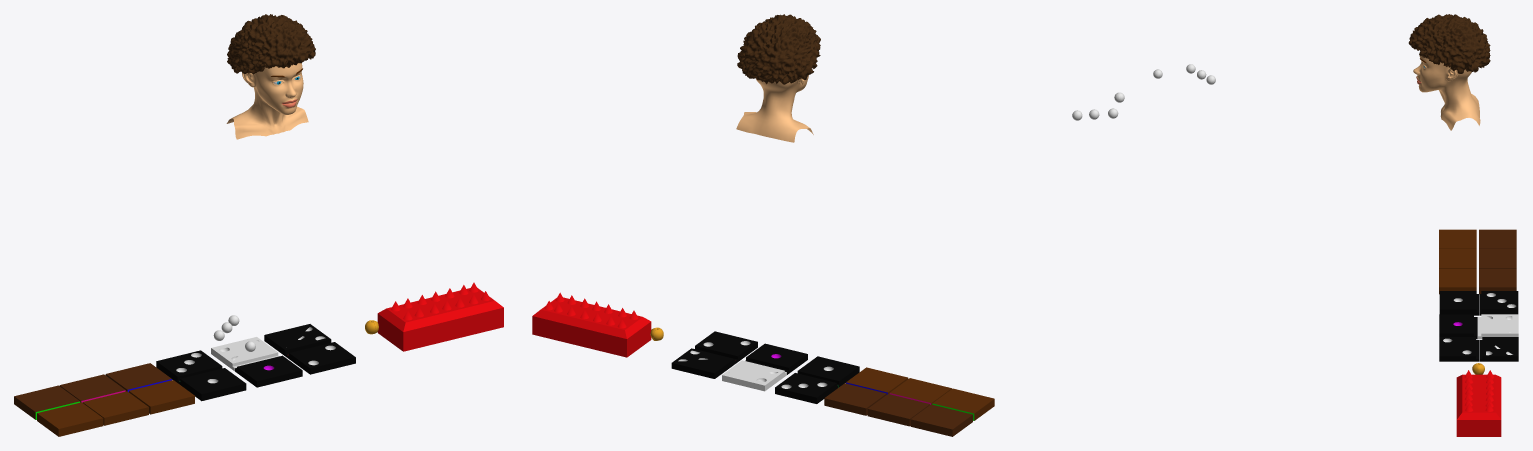
File: domino1.fbx
The picture shows the model from 3 angles, left to right: view 1: azimuth 30°, elevation 25°; view 2: azimuth 150°, elevation 25°; view 3: azimuth 270°, elevation 25°; orthographic projection. The views are drawn at different scales.
Parts seen in each view (by area): view 1: Iris_Geo_Iris_MAT_0.003, Cone.013, Cube.009, Cube.001, Cube, Cube.005, Cube.007, Cube.002, Cube.004, Cube.003, Cube.011, Cube.010 (+2 smaller); view 2: Iris_Geo_Iris_MAT_0.003, Cone.013, Cube.010, Cube.003, Cube.011, Cube.004, Cube.006, Cube.008, Cube, Cube.002, Cube.001, Cube.009 (+2 smaller); view 3: Iris_Geo_Iris_MAT_0.003, Cone.013, Cube, Cube.004, Cube.001, Cube.011, Cube.003, Cube.002, Cube.006, Cube.005, Cube.007, Cube.008 (+2 smaller).
Part boxes in pixels (left/top/right/bottom): Iris_Geo_Iris_MAT_0.003: left=226, top=14, right=315, bottom=139; Cone.013: left=377, top=282, right=503, bottom=351; Cube.009: left=37, top=402, right=103, bottom=436; Cube.001: left=179, top=368, right=246, bottom=401; Cube: left=287, top=342, right=355, bottom=374; Cube.005: left=129, top=380, right=194, bottom=414; Cube.007: left=82, top=391, right=148, bottom=425; Cube.002: left=235, top=355, right=302, bottom=387; Cube.004: left=264, top=324, right=331, bottom=357; Cube.003: left=211, top=337, right=278, bottom=371; Cube.011: left=156, top=350, right=222, bottom=383; Cube.010: left=14, top=385, right=80, bottom=419; Iris_Geo_Iris_MAT_0.003: left=736, top=14, right=820, bottom=142; Cone.013: left=532, top=292, right=651, bottom=357; Cube.010: left=910, top=404, right=972, bottom=436; Cube.003: left=722, top=360, right=786, bottom=391; Cube.011: left=775, top=373, right=838, bottom=403; Cube.004: left=671, top=348, right=736, bottom=378; Cube.006: left=824, top=383, right=886, bottom=415; Cube.008: left=867, top=394, right=929, bottom=426; Cube: left=695, top=331, right=757, bottom=362; Cube.002: left=745, top=343, right=807, bottom=374; Cube.001: left=797, top=356, right=859, bottom=387; Cube.009: left=932, top=388, right=994, bottom=420; Iris_Geo_Iris_MAT_0.003: left=1408, top=14, right=1490, bottom=130; Cone.013: left=1456, top=370, right=1501, bottom=436; Cube: left=1439, top=337, right=1478, bottom=361; Cube.004: left=1479, top=337, right=1518, bottom=361; Cube.001: left=1439, top=291, right=1478, bottom=315; Cube.011: left=1479, top=291, right=1518, bottom=315; Cube.003: left=1478, top=314, right=1518, bottom=339; Cube.002: left=1439, top=314, right=1477, bottom=339; Cube.006: left=1479, top=268, right=1516, bottom=293; Cube.005: left=1439, top=268, right=1476, bottom=294; Cube.007: left=1439, top=249, right=1476, bottom=268; Cube.008: left=1479, top=249, right=1516, bottom=268.
Bounding box in the file's own units: 2045 × 1582 × 1640.
